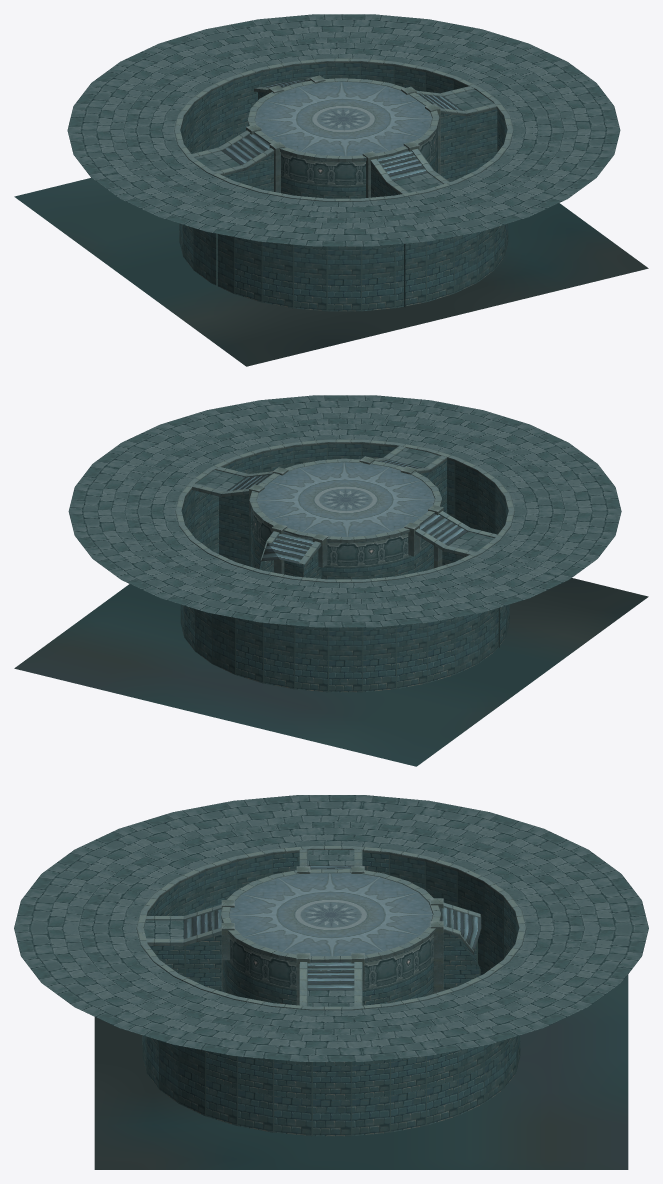
File: sn_jjc_pt_01.FBX
3 renders of one model, top to bottom at view 1: azimuth 30°, elevation 25°; view 2: azimuth 150°, elevation 25°; view 3: azimuth 270°, elevation 25°, orthographic. The views are drawn at different scales.
Visible parts, largest first — view 1: sn_jjc_pt_01; view 2: sn_jjc_pt_01; view 3: sn_jjc_pt_01.
Boxes of the visible parts, x1,y1,x2,y2 form: sn_jjc_pt_01: (14, 14, 648, 366); sn_jjc_pt_01: (14, 395, 648, 766); sn_jjc_pt_01: (14, 795, 648, 1169).
Bounding box in the file's own units: 8415 × 8462 × 2293.
